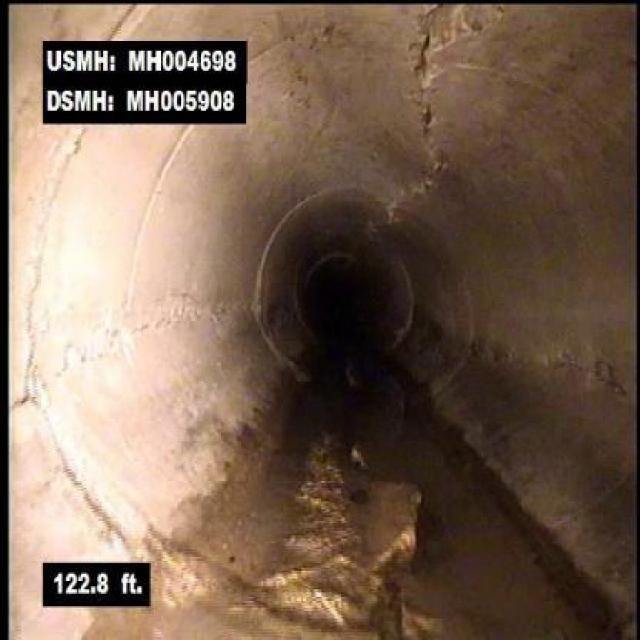Buckling: (344, 422, 438, 636), (402, 6, 489, 125)
Crack: (52, 285, 265, 360), (477, 322, 625, 406)
